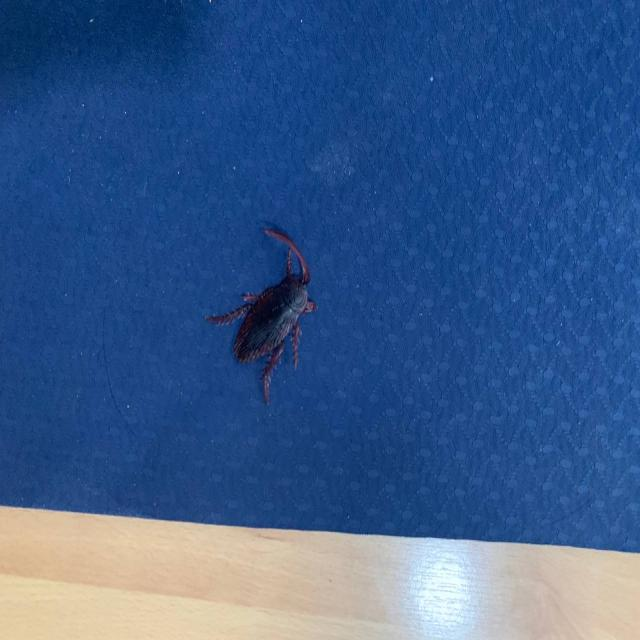Cockroach: (204, 218, 316, 400)
